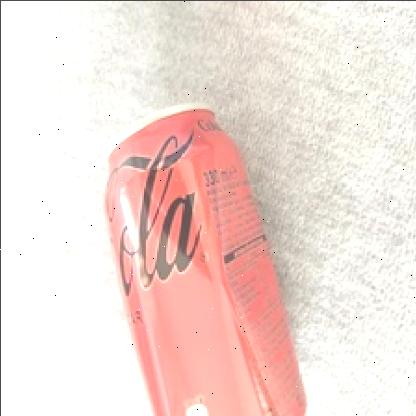Can: (103, 102, 311, 416)
